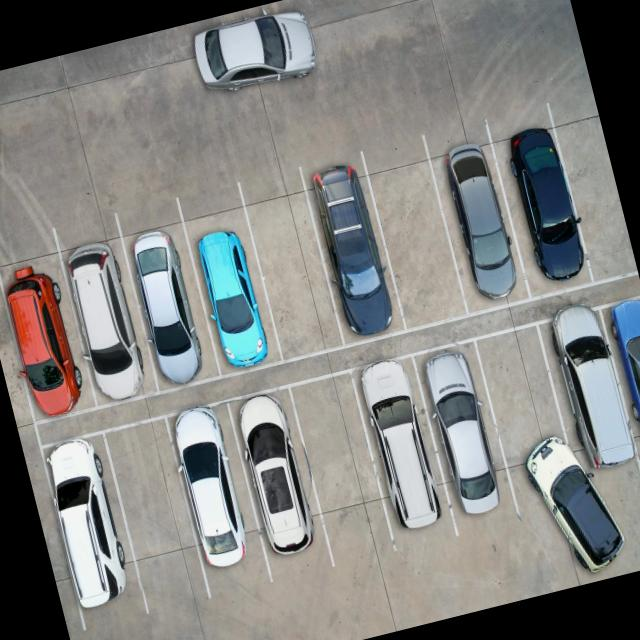car: (488, 110, 596, 296), (301, 156, 406, 342), (178, 186, 282, 372), (411, 339, 516, 521), (424, 128, 530, 308), (350, 354, 453, 536), (164, 401, 267, 582), (536, 303, 640, 482), (226, 386, 330, 564), (117, 206, 218, 384), (40, 432, 140, 606), (56, 228, 154, 400), (0, 242, 93, 415), (597, 293, 640, 463)
free: (473, 324, 583, 514), (238, 170, 344, 358), (362, 142, 468, 328), (288, 374, 393, 556), (102, 418, 204, 600), (551, 92, 637, 282)
